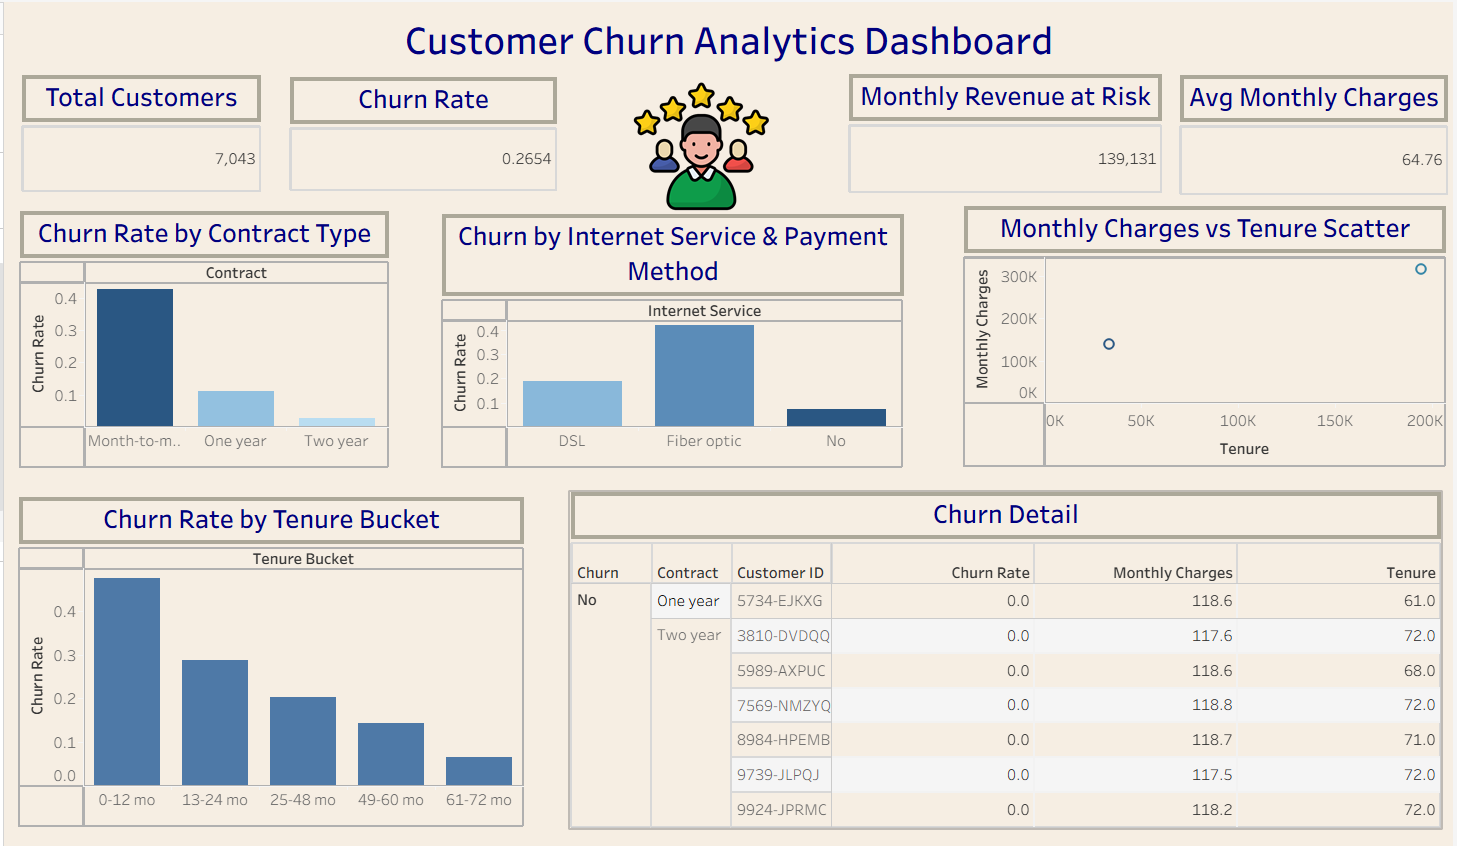

The page's visual inventory and layout, read from the dashboard file:
{"tool":"tableau","page":{"name":"Dashboard 1","canvas":[1000,1000],"units":"permille","ordinal":0},"visuals":[{"type":"title","box":[5.5,9.4,989,69.2]},{"type":"worksheet","title":"Sheet 3","mark":"Automatic","box":[582.1,84.5,216.6,139.7]},{"type":"worksheet","title":"Sheet 1","mark":"Automatic","box":[12,85.7,165.6,137.3]},{"type":"worksheet","title":"Sheet 4","mark":"Automatic","box":[810.4,85.7,185.6,140.8]},{"type":"worksheet","title":"Sheet 2","mark":"Automatic","box":[196.8,88,184.8,133.8]},{"type":"image","param":"Image/Customer.png","box":[386.2,89.2,189.7,159.6]},{"type":"worksheet","title":"Sheet 7","mark":"Automatic","rows":["MonthlyCharges"],"cols":["tenure"],"box":[661.6,239.4,332.8,306.3]},{"type":"worksheet","title":"Sheet 5","mark":"Automatic","rows":["Calculation_0930225424617474"],"cols":["Contract"],"box":[10.4,245.3,255.2,301.6]},{"type":"worksheet","title":"Sheet 6","mark":"Automatic","rows":["Calculation_0930225424617474"],"cols":["InternetService"],"box":[301.6,248.8,319.2,298.1]},{"type":"worksheet","title":"Sheet 9","mark":"Automatic","rows":["Churn","Contract","customerID"],"box":[390.4,575.1,600.8,394.4]},{"type":"worksheet","title":"Sheet 8","mark":"Bar","rows":["Calculation_0930225424617474"],"cols":["Calculation_0930225425002502"],"box":[9.6,581,348.8,387.3]}]}

Visuals, with their boxes on the dashboard's canvas, which has no fixed pixel size, in thousandths of its width and height (x1, y1, x2, y2). These are canvas units, not pixel positions in the 1457x846 screenshot, which may show the page scaled, cropped or inside an application window:
title: 6,9,994,79
"Sheet 3" worksheet: 582,84,799,224
"Sheet 1" worksheet: 12,86,178,223
"Sheet 4" worksheet: 810,86,996,226
"Sheet 2" worksheet: 197,88,382,222
image: 386,89,576,249
"Sheet 7" worksheet: 662,239,994,546
"Sheet 5" worksheet: 10,245,266,547
"Sheet 6" worksheet: 302,249,621,547
"Sheet 9" worksheet: 390,575,991,970
"Sheet 8" worksheet (Bar marks): 10,581,358,968
